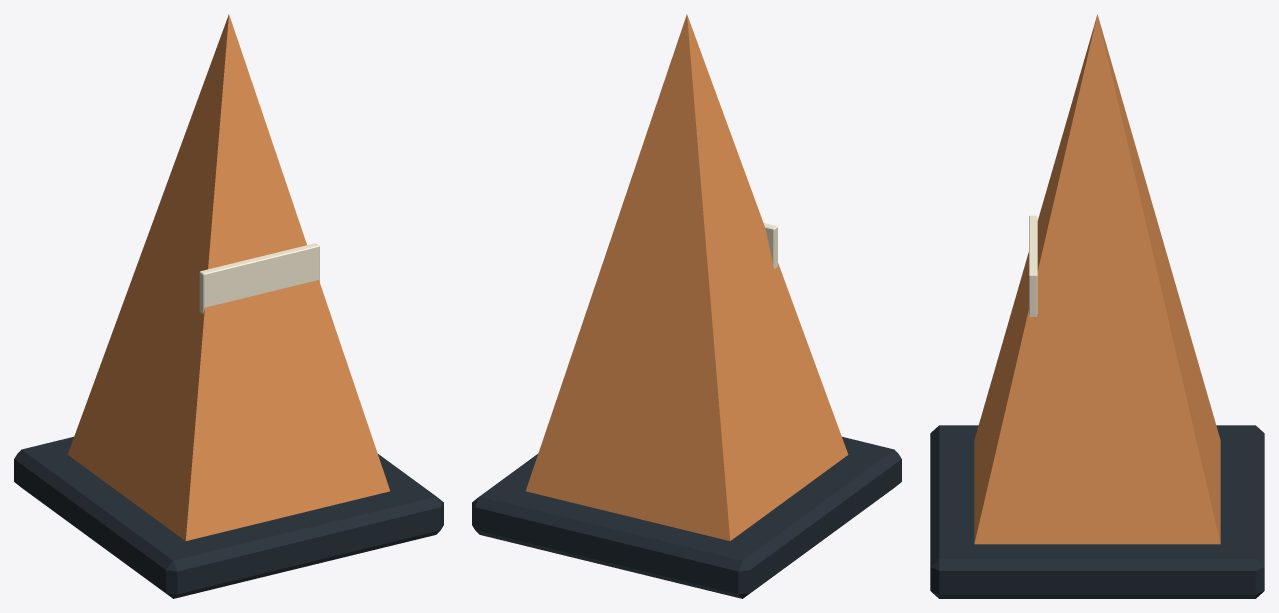
The model's file is TrafficCone.fbx.
The picture shows the model from 3 angles, left to right: view 1: azimuth 30°, elevation 25°; view 2: azimuth 150°, elevation 25°; view 3: azimuth 270°, elevation 25°; orthographic projection. The views are drawn at different scales.
Parts seen in each view (by area): view 1: Cone, Base.008, Reflector; view 2: Cone, Base.008; view 3: Cone, Base.008, Reflector.
Boxes of the visible parts, left/top/right/bottom form: Cone: left=67, top=14, right=389, bottom=540; Base.008: left=14, top=436, right=443, bottom=598; Reflector: left=199, top=243, right=319, bottom=313; Cone: left=526, top=14, right=848, bottom=540; Base.008: left=472, top=436, right=901, bottom=598; Cone: left=974, top=14, right=1220, bottom=544; Base.008: left=930, top=425, right=1264, bottom=598; Reflector: left=1029, top=215, right=1037, bottom=316.
Size of the model in its own units: 0.38 by 0.65 by 0.38.
